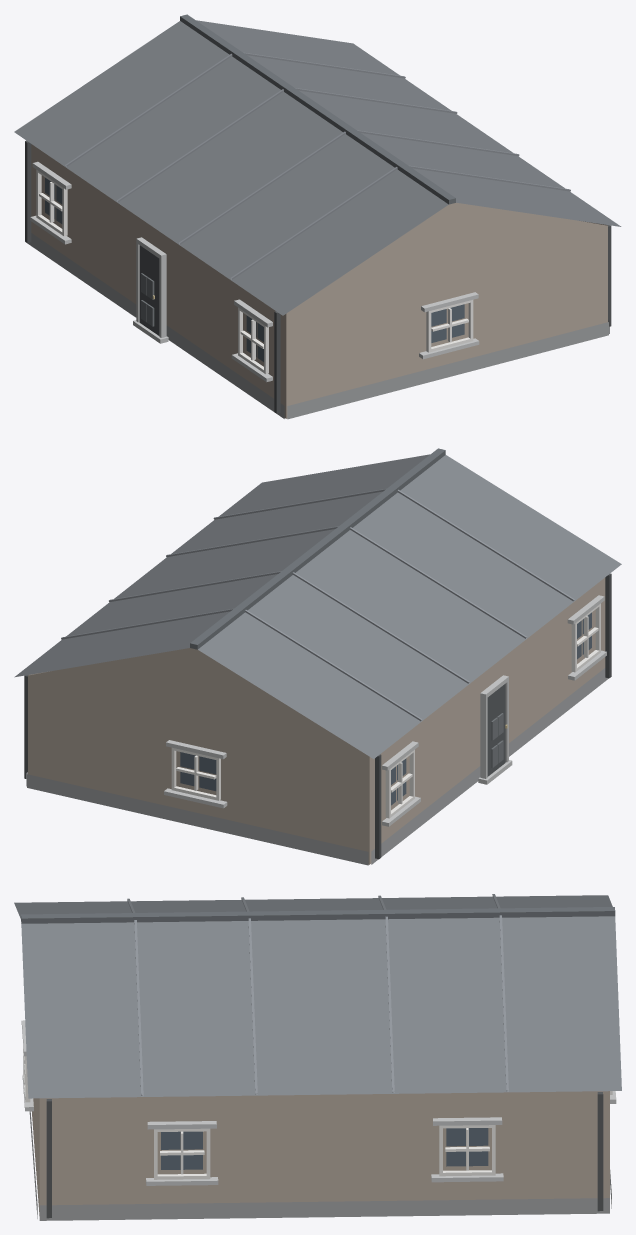
The picture shows the model from 3 angles, top to bottom: view 1: azimuth 30°, elevation 25°; view 2: azimuth 150°, elevation 25°; view 3: azimuth 270°, elevation 25°; orthographic projection. The views are drawn at different scales.
Visible parts, largest first — view 1: slate, harl_brown, plinth, slate_lt, stone_band, slate_dk, frame, pipe, door_dark, door_dark_p; view 2: slate, harl_brown, plinth, slate_lt, stone_band, frame, slate_dk, pipe, door_dark; view 3: slate, harl_brown, plinth, slate_dk, frame, stone_band, slate_lt, pipe.
Part boxes in pixels (<box>): slate: <box>14,20,621,315</box>; harl_brown: <box>31,144,607,418</box>; plinth: <box>27,233,609,419</box>; slate_lt: <box>65,52,570,279</box>; stone_band: <box>30,161,479,382</box>; slate_dk: <box>180,14,455,204</box>; frame: <box>36,169,473,373</box>; pipe: <box>25,140,611,413</box>; door_dark: <box>139,245,159,335</box>; door_dark_p: <box>141,273,154,326</box>; slate: <box>14,454,621,758</box>; harl_brown: <box>28,577,605,864</box>; plinth: <box>26,668,608,865</box>; slate_lt: <box>61,488,574,721</box>; stone_band: <box>164,595,606,826</box>; frame: <box>171,603,600,818</box>; slate_dk: <box>190,448,445,649</box>; pipe: <box>24,573,611,859</box>; door_dark: <box>487,683,505,776</box>; slate: <box>14,895,621,1098</box>; harl_brown: <box>31,1091,609,1215</box>; plinth: <box>29,1111,611,1220</box>; slate_dk: <box>21,907,615,923</box>; frame: <box>23,1048,612,1179</box>; stone_band: <box>21,1020,616,1185</box>; slate_lt: <box>127,894,508,1096</box>; pipe: <box>46,1092,603,1218</box>.
Bounding box in the file's own units: 9.82 × 4.77 × 12.41.
